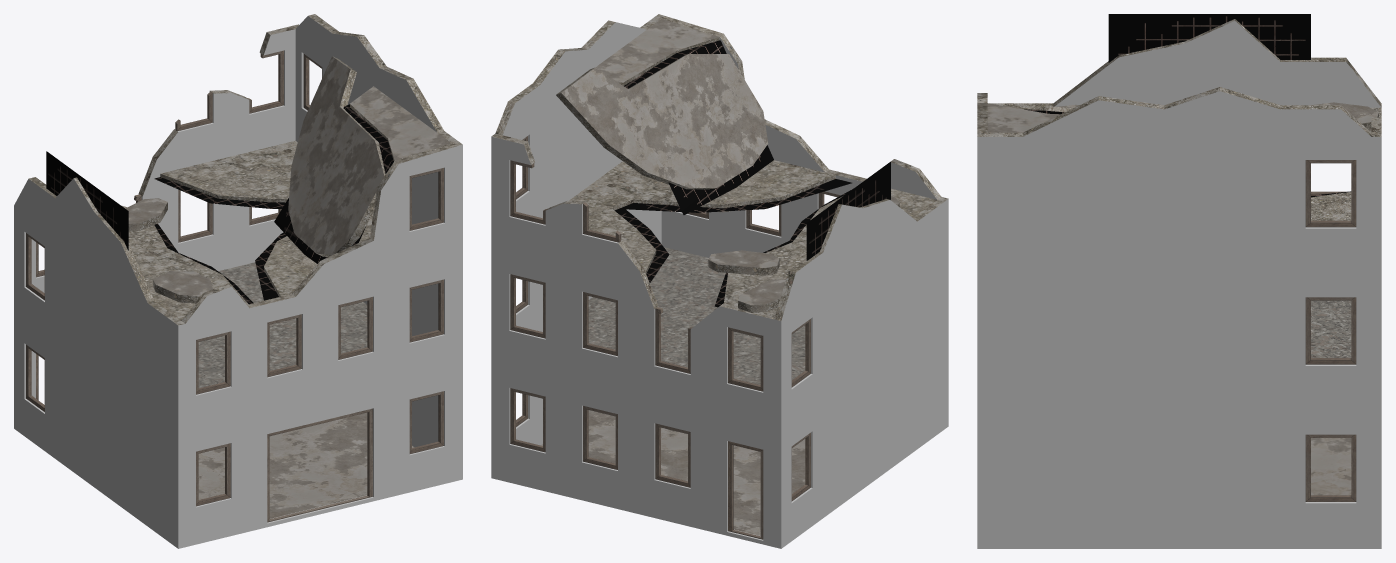
Rendered from Building_D_Destroyed.fbx.
3 views of the same model, side by side, from view 1: azimuth 30°, elevation 25°; view 2: azimuth 150°, elevation 25°; view 3: azimuth 270°, elevation 25° (orthographic). The views are drawn at different scales.
Visible parts, largest first — view 1: Walls, Floor_Top, Windows, Floor_Center, Floor_Ground, Broken_Concrete, Floor_Bottom, Plane029, Plane033, Rubble; view 2: Walls, Floor_Top, Windows, Floor_Center, Floor_Bottom, Broken_Concrete, Floor_Ground, Plane029, Plane033, Rubble; view 3: Walls, Plane033, Broken_Concrete, Windows, Floor_Bottom, Floor_Ground, Floor_Top, Floor_Center, Rubble.
Part boxes in pixels (x1,y1,x2,y2): Walls: (14,16,462,548); Floor_Top: (288,56,451,255); Windows: (26,50,443,522); Floor_Center: (121,140,373,320); Floor_Ground: (198,412,414,518); Broken_Concrete: (29,14,462,325); Floor_Bottom: (198,262,367,388); Plane029: (154,104,393,304); Plane033: (46,151,128,250); Rubble: (125,198,214,296); Walls: (491,22,948,548); Floor_Top: (561,19,768,188); Windows: (510,136,840,539); Floor_Center: (569,160,936,315); Floor_Bottom: (588,247,805,384); Broken_Concrete: (491,14,948,320); Floor_Ground: (540,410,805,535); Plane029: (614,40,853,307); Plane033: (806,162,890,260); Rubble: (708,193,899,305); Walls: (977,21,1381,548); Plane033: (1108,14,1310,62); Broken_Concrete: (977,19,1381,136); Windows: (1305,160,1356,501); Floor_Bottom: (1311,300,1351,357); Floor_Ground: (1311,438,1351,495); Floor_Top: (987,103,1059,132); Floor_Center: (1014,107,1371,220); Rubble: (1057,102,1378,123).
Size of the model in its own units: 800 by 1000 by 800.
